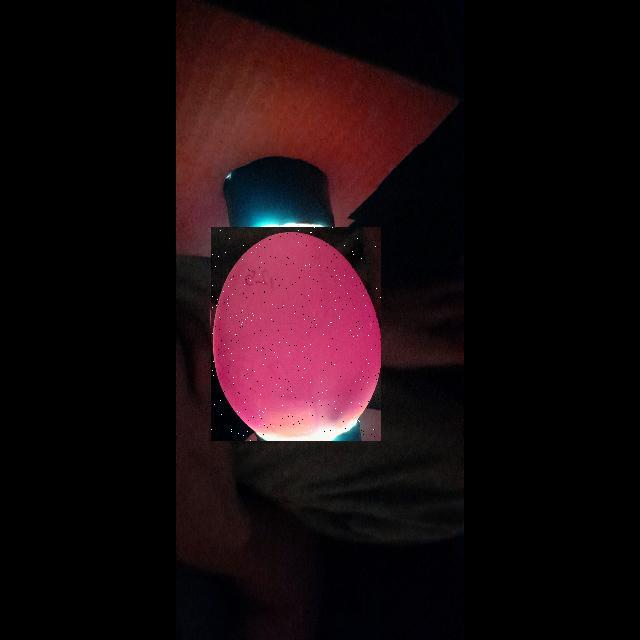Fertile: (211, 227, 381, 441)
